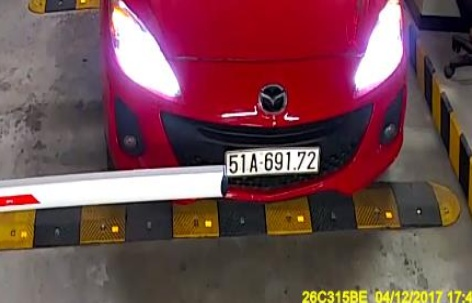plate: (220, 143, 322, 177)
